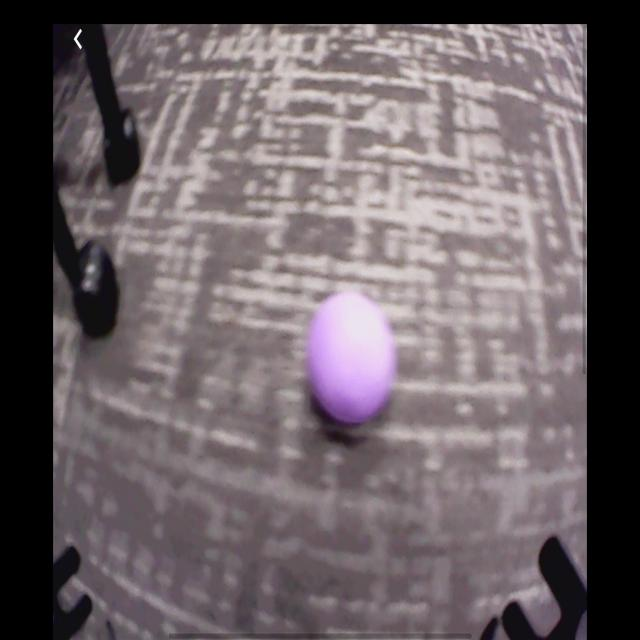ball: (306, 292, 398, 432)
